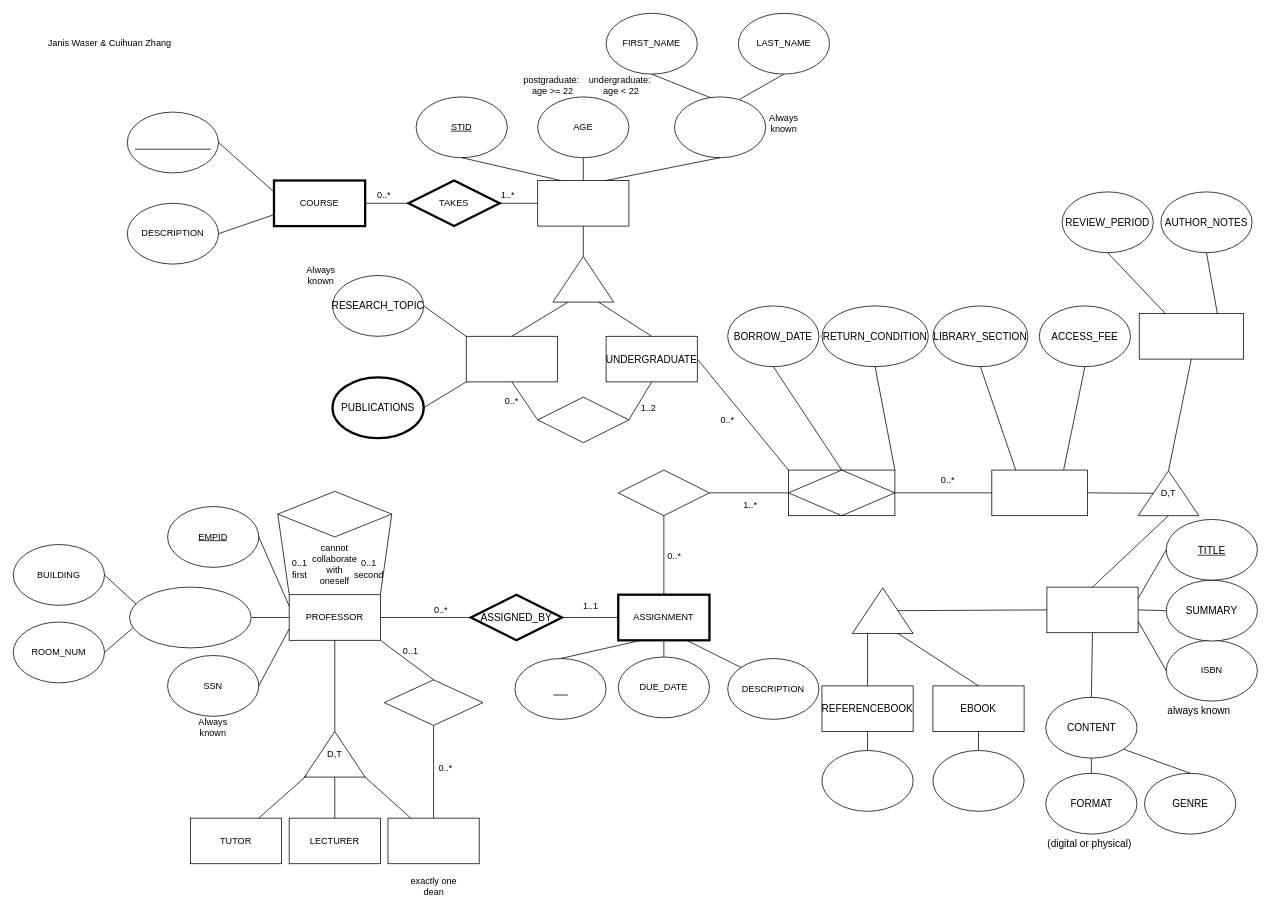
Some shapes in this 1271 by 915 pixel diagram are drawn without their labels. The shapes that lost their labels are listed below. From the top down, each one's centre as x and y in pixels, then its label:
the point at 172,142: COURSE_CODE
the point at 720,127: FULL_NAME
the point at 583,203: STUDENT
the point at 583,279: D, T
the point at 1190,336: UNPUBLISHED_RSRC
the point at 511,359: POSTGRADUATE
the point at 583,419: MENTORED_BY
the point at 663,492: NEEDS
the point at 841,492: BORROWS
the point at 1039,492: RESTRICTED_RSRC
the point at 334,514: COLLABORATES_WITH
the point at 190,617: DEPARTMENT_LOCATION
the point at 882,610: O,T
the point at 1092,609: TEXTBOOK
the point at 433,702: SUPERVISED
the point at 560,688: AID
the point at 867,780: SUBJECT
the point at 978,780: DOWN LOAD_LIMIT
the point at 433,840: DEAN
